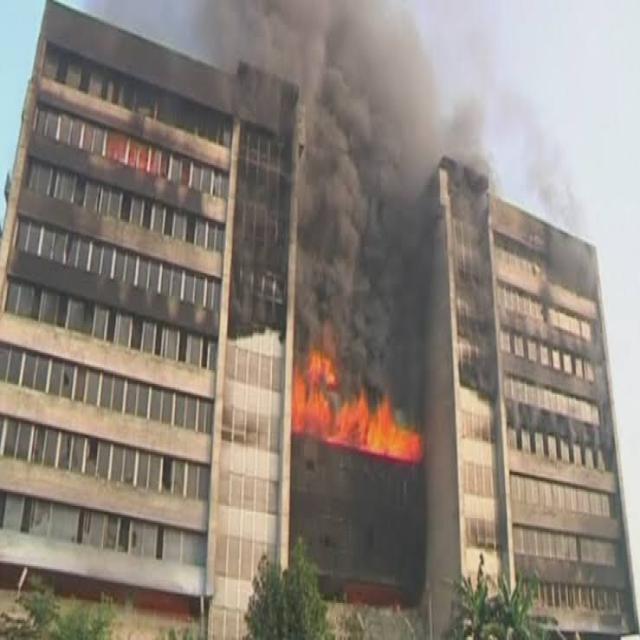Fire: (292, 336, 436, 494)
Smoke: (220, 0, 440, 324)
